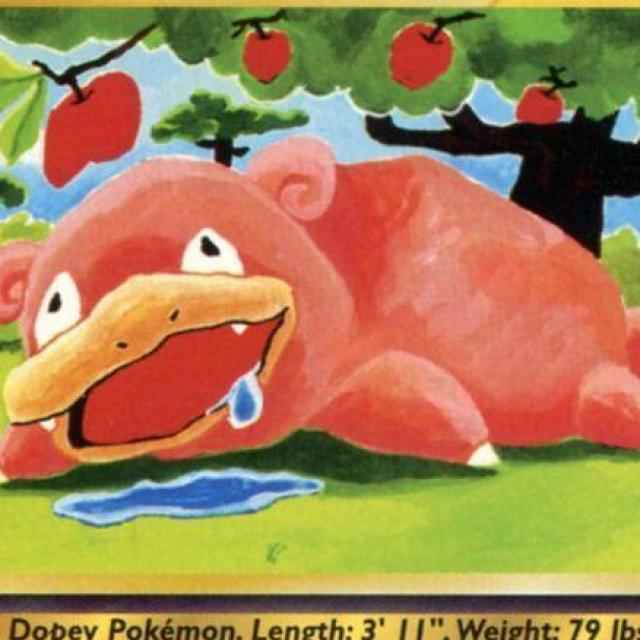Slowpoke: (16, 144, 640, 484)
